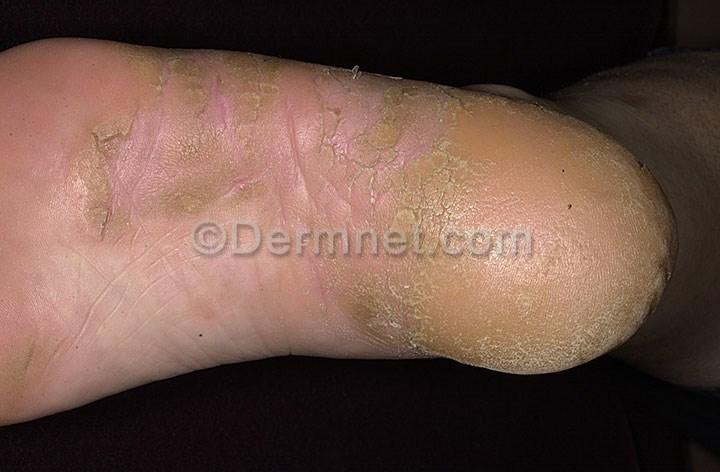Eczema: (112, 38, 313, 133), (63, 101, 153, 247), (473, 291, 598, 384), (344, 262, 456, 358), (167, 136, 293, 218), (329, 67, 437, 162), (355, 159, 504, 226), (609, 169, 688, 266), (579, 267, 660, 357)
